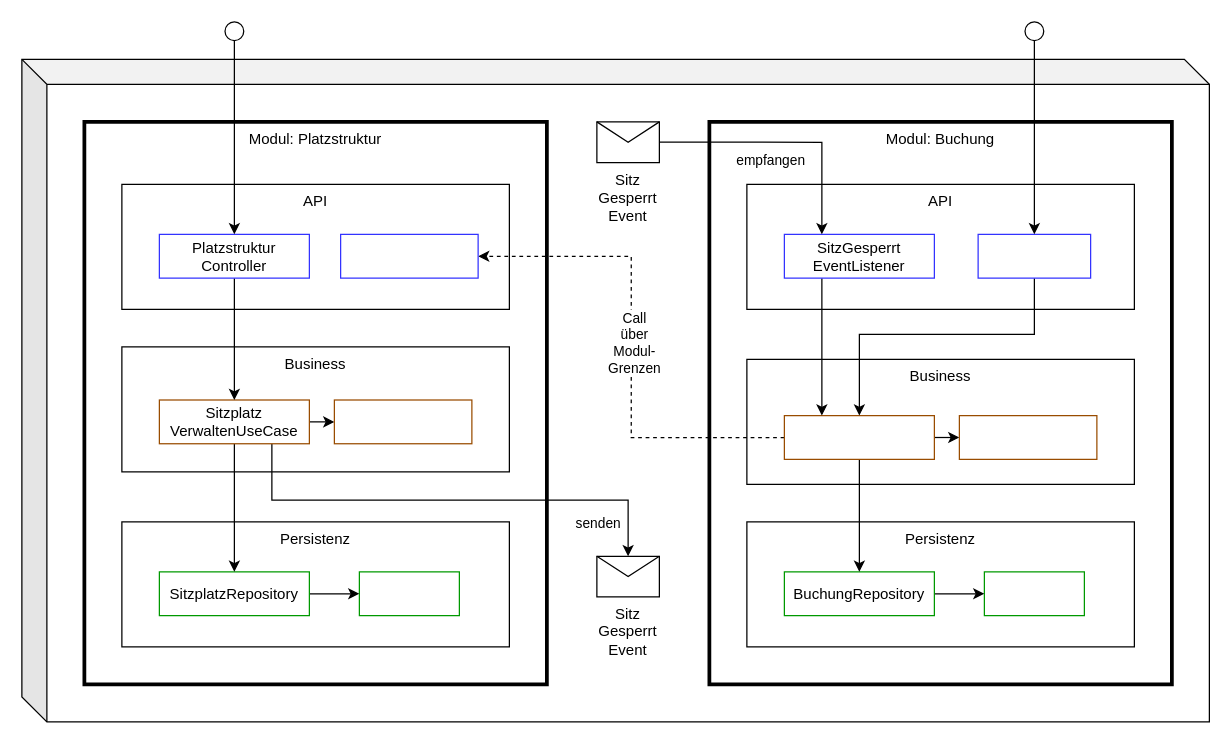
The diagram is 1231 pixels wide and 744 high, and some of its shapes have lost their labels. The centre of each missing label's shape, as x and y in pixels:
"Buchung" belongs at point 1033,593.
"Buchung Controller" belongs at point 1034,255.
"Buchung RegelwerkService" belongs at point 1027,436.
"Buchung VerwaltenUseCase" belongs at point 858,436.
"Sitzplatz" belongs at point 408,593.
"Sitzplatz RegelwerkService" belongs at point 402,421.
"SitzplatzAbfrage" belongs at point 408,255.
